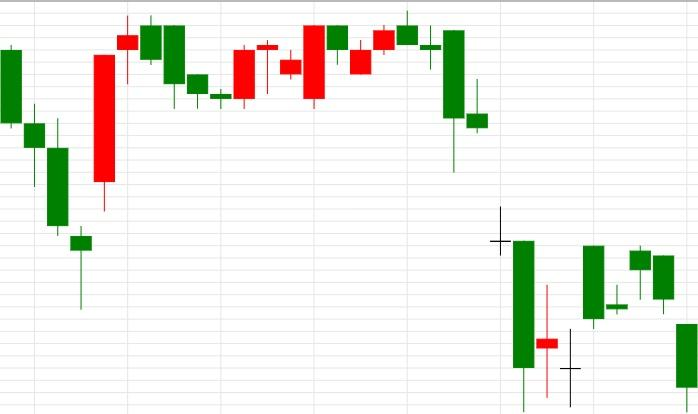hammer_rise: (0, 44, 92, 309)
morning_star_rise: (139, 16, 256, 110)
